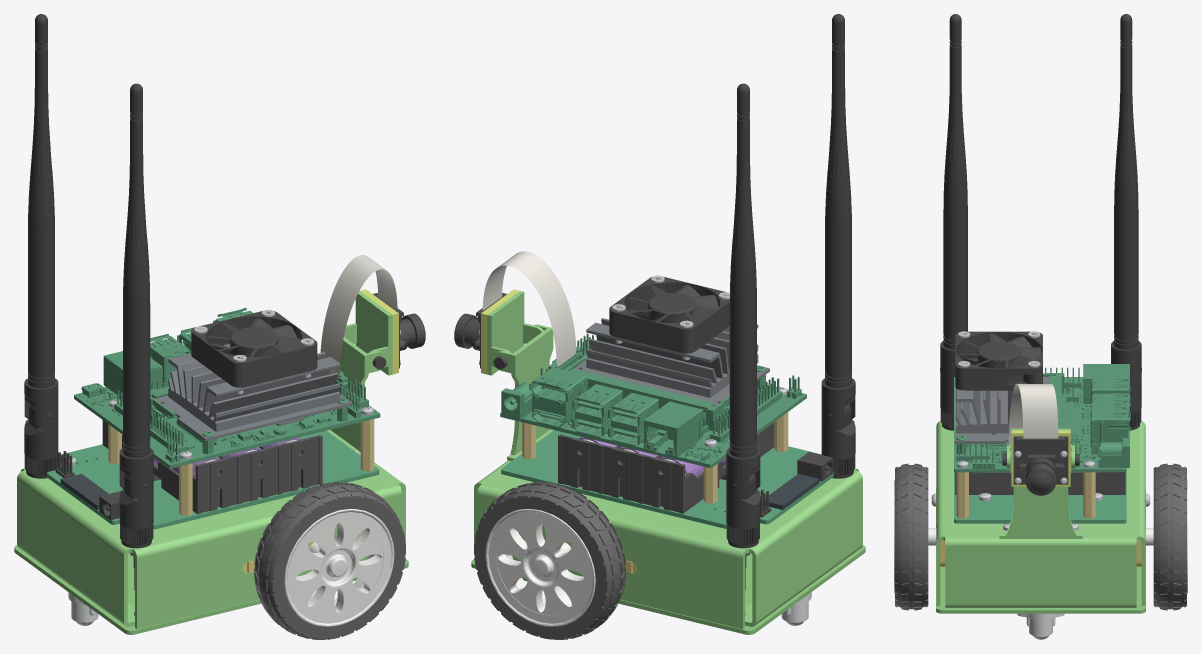
File: jetbot.glb
3 renders of one model, left to right at view 1: azimuth 30°, elevation 25°; view 2: azimuth 150°, elevation 25°; view 3: azimuth 270°, elevation 25°, orthographic. The views are drawn at different scales.
Visible parts, largest first — view 1: chassis__0, antenna_b__0, antenna_a__0, jetson__0, wheel_right__1, heatsink__0, wheel_right__0, battery__0, fan__0, board__2, camera_mount__1, camera__2 (+7 smaller); view 2: chassis__0, jetson__0, antenna_a__0, antenna_b__0, wheel_left__1, wheel_left__0, battery__0, heatsink__0, fan__0, board__2, camera_mount__1, camera__2 (+6 smaller); view 3: chassis__0, jetson__0, antenna_a__0, antenna_b__0, wheel_left__0, wheel_right__0, fan__0, camera_mount__1, heatsink__0, board__2, camera__0, camera__2 (+6 smaller).
Boxes of the visible parts, <box> form: chassis__0: <box>17,462,405,629</box>; antenna_b__0: <box>119,83,153,548</box>; antenna_a__0: <box>24,14,58,478</box>; jetson__0: <box>74,307,380,468</box>; wheel_right__1: <box>284,509,394,626</box>; heatsink__0: <box>154,344,351,440</box>; wheel_right__0: <box>254,482,405,639</box>; battery__0: <box>102,420,322,514</box>; fan__0: <box>191,311,317,387</box>; board__2: <box>47,430,379,529</box>; camera_mount__1: <box>327,291,392,455</box>; camera__2: <box>320,255,397,378</box>; chassis__0: <box>474,460,862,629</box>; jetson__0: <box>500,333,806,467</box>; antenna_a__0: <box>726,83,760,548</box>; antenna_b__0: <box>821,14,855,478</box>; wheel_left__1: <box>485,509,595,626</box>; wheel_left__0: <box>474,482,625,639</box>; battery__0: <box>558,422,774,513</box>; heatsink__0: <box>574,318,769,406</box>; fan__0: <box>609,277,729,353</box>; board__2: <box>501,430,833,528</box>; camera_mount__1: <box>487,291,553,461</box>; camera__2: <box>482,251,576,366</box>; chassis__0: <box>936,421,1145,607</box>; jetson__0: <box>954,364,1130,473</box>; antenna_a__0: <box>1111,14,1141,430</box>; antenna_b__0: <box>940,14,967,430</box>; wheel_left__0: <box>1153,463,1186,610</box>; wheel_right__0: <box>895,463,928,610</box>; fan__0: <box>955,331,1042,390</box>; camera_mount__1: <box>999,428,1082,538</box>; heatsink__0: <box>955,358,1049,443</box>; board__2: <box>954,472,1126,523</box>; camera__0: <box>1013,436,1068,495</box>; camera__2: <box>1008,384,1058,445</box>.
Bounding box in the file's own units: 0.1665 × 0.26 × 0.1344.
